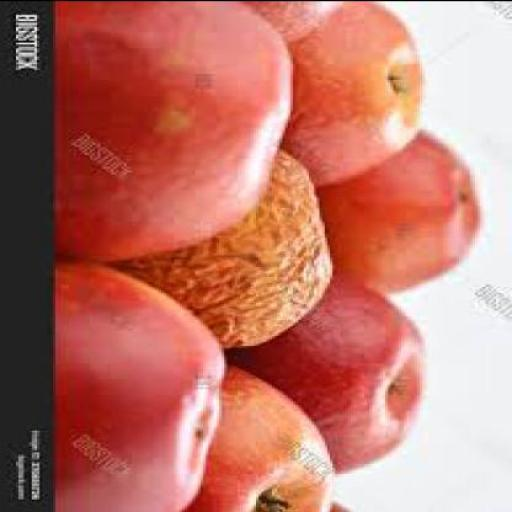biodegradable: (60, 1, 299, 260), (114, 140, 335, 346), (58, 258, 232, 510), (224, 272, 428, 469), (280, 1, 428, 181), (322, 130, 483, 291), (190, 354, 340, 510), (245, 2, 343, 40)
